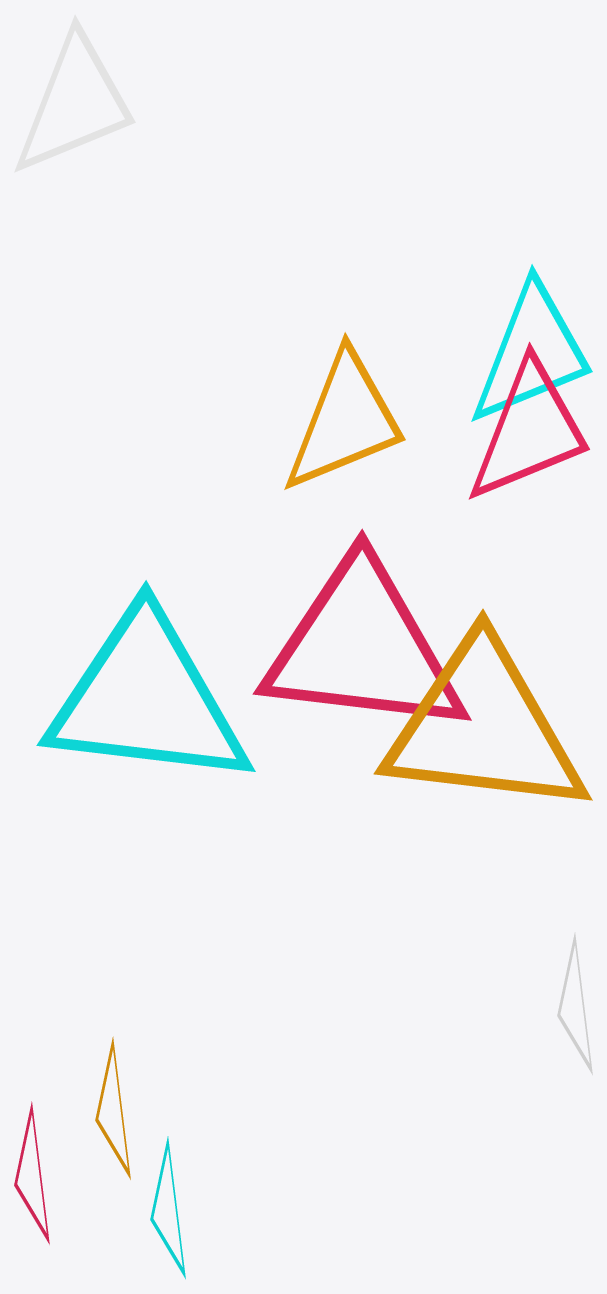
3 views of the same model, one above another, from view 1: azimuth 30°, elevation 25°; view 2: azimuth 150°, elevation 25°; view 3: azimuth 270°, elevation 25° (orthographic). The views are drawn at different scales.
Parts seen in each view (by area): view 1: mesh_2, mesh_3, mesh_0, mesh_1; view 2: mesh_1, mesh_2, mesh_0; view 3: mesh_3, mesh_0, mesh_1, mesh_2.
Boxes of the visible parts, <box> form: mesh_2: <box>284,332,405,489</box>; mesh_3: <box>14,14,135,172</box>; mesh_0: <box>468,341,589,499</box>; mesh_1: <box>471,264,592,421</box>; mesh_1: <box>36,580,255,771</box>; mesh_2: <box>373,608,592,800</box>; mesh_0: <box>252,528,471,720</box>; mesh_3: <box>557,932,592,1075</box>; mesh_0: <box>14,1101,49,1244</box>; mesh_1: <box>150,1136,185,1279</box>; mesh_2: <box>95,1036,130,1179</box>.
Bounding box in the file's own units: 6.43 × 4.46 × 10.33.
